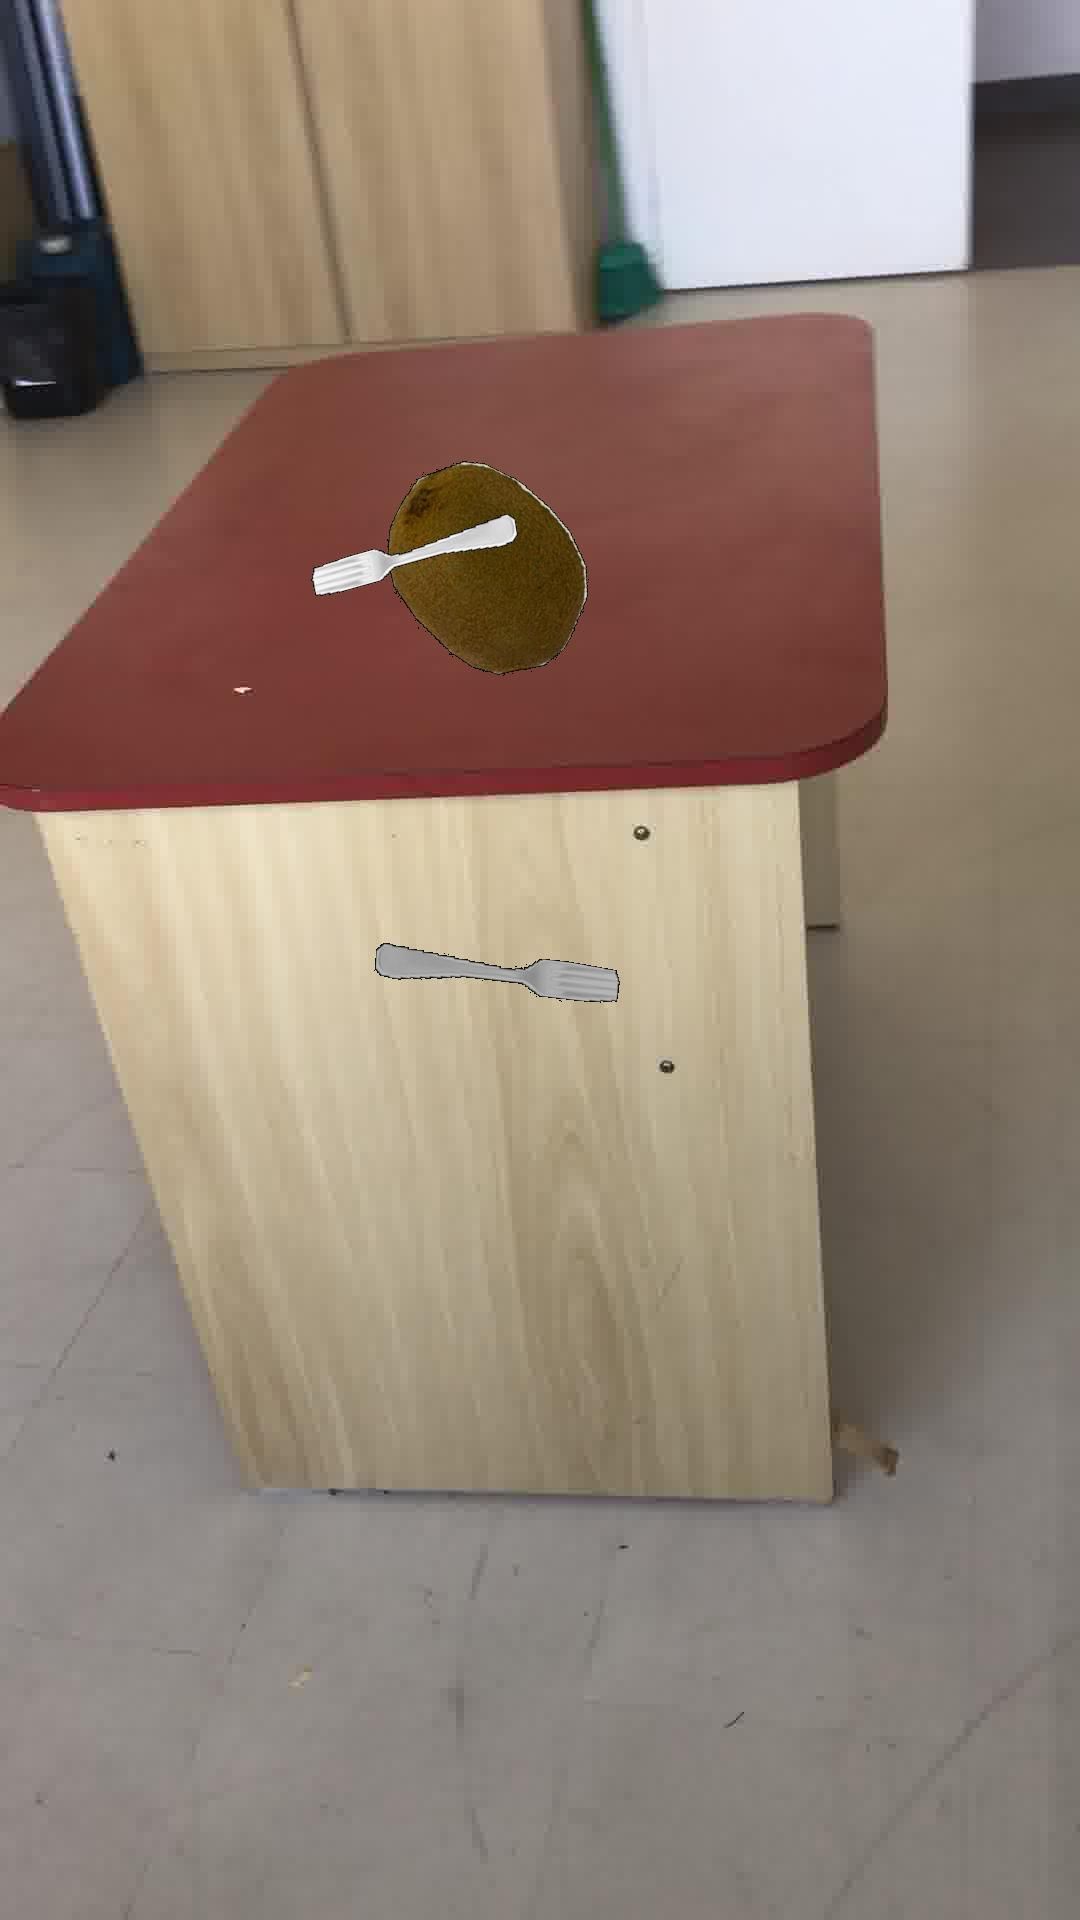fork: (310, 513, 517, 595), (373, 942, 618, 1001)
kiwi: (385, 459, 585, 674)
